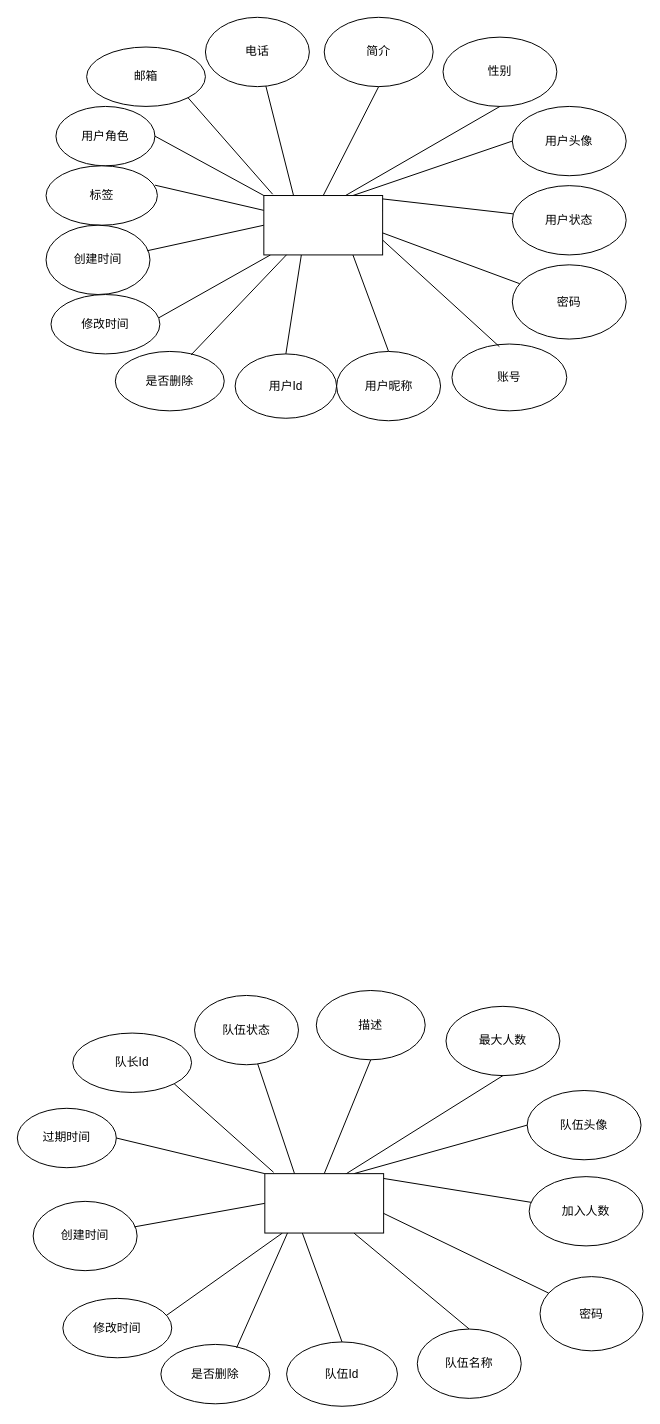
This 660x1424 diagram has some shape labels left out. Here are the shapes that lost their labels. From the top down, the centre of each, then its label:
At (x=323, y=225): "用户".
At (x=324, y=1203): "队伍".
